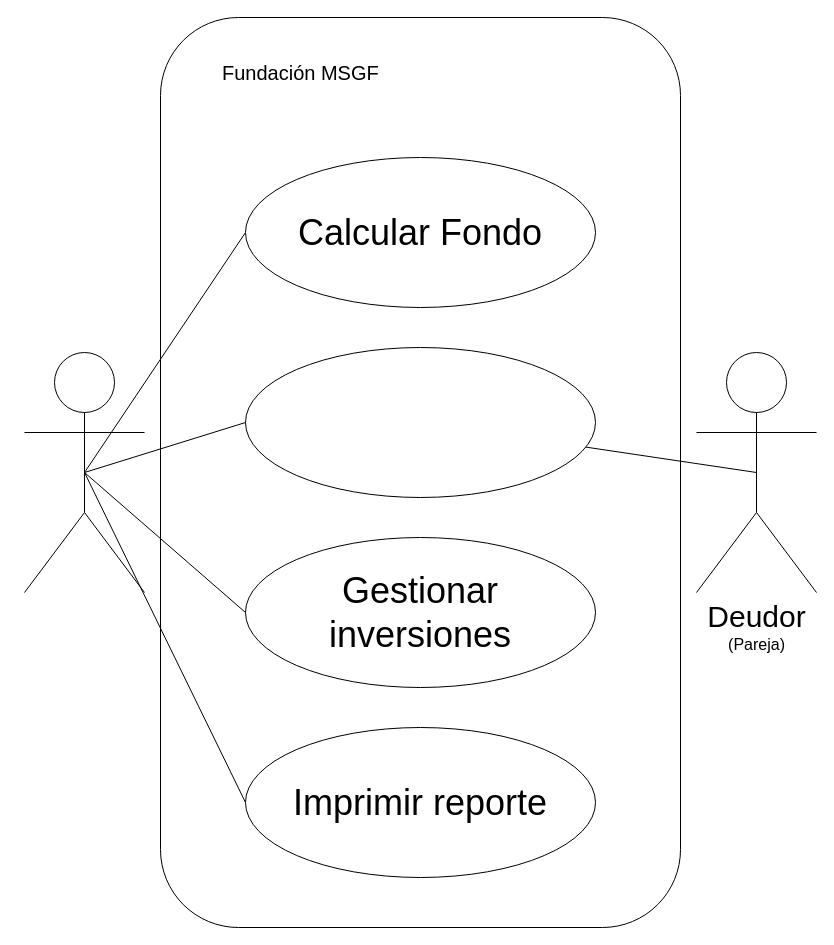
This 834x945 diagram has some shape labels left out. The centre of each missing label's shape, as x and y in pixels:
Empleado MSGF: (84,472)
Gestionar hipoteca: (420,422)
